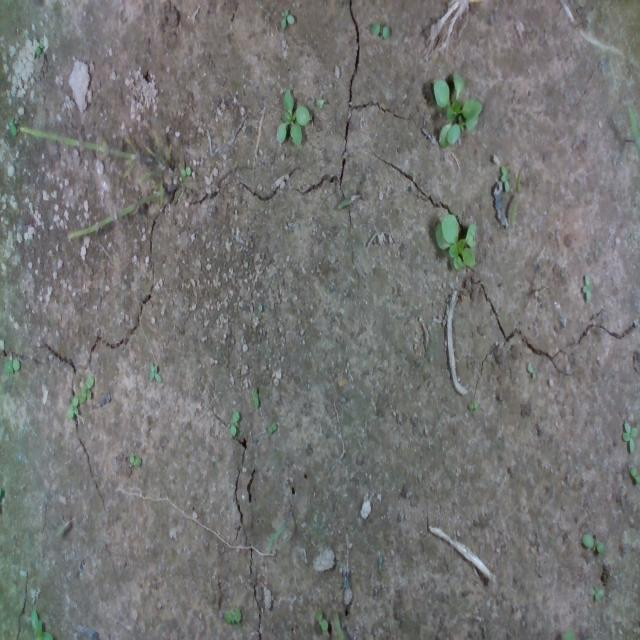weed: (582, 527, 606, 561), (225, 408, 243, 442), (581, 268, 597, 306), (622, 417, 638, 455), (278, 3, 296, 30), (585, 582, 605, 604), (499, 160, 511, 193), (148, 357, 162, 385)
